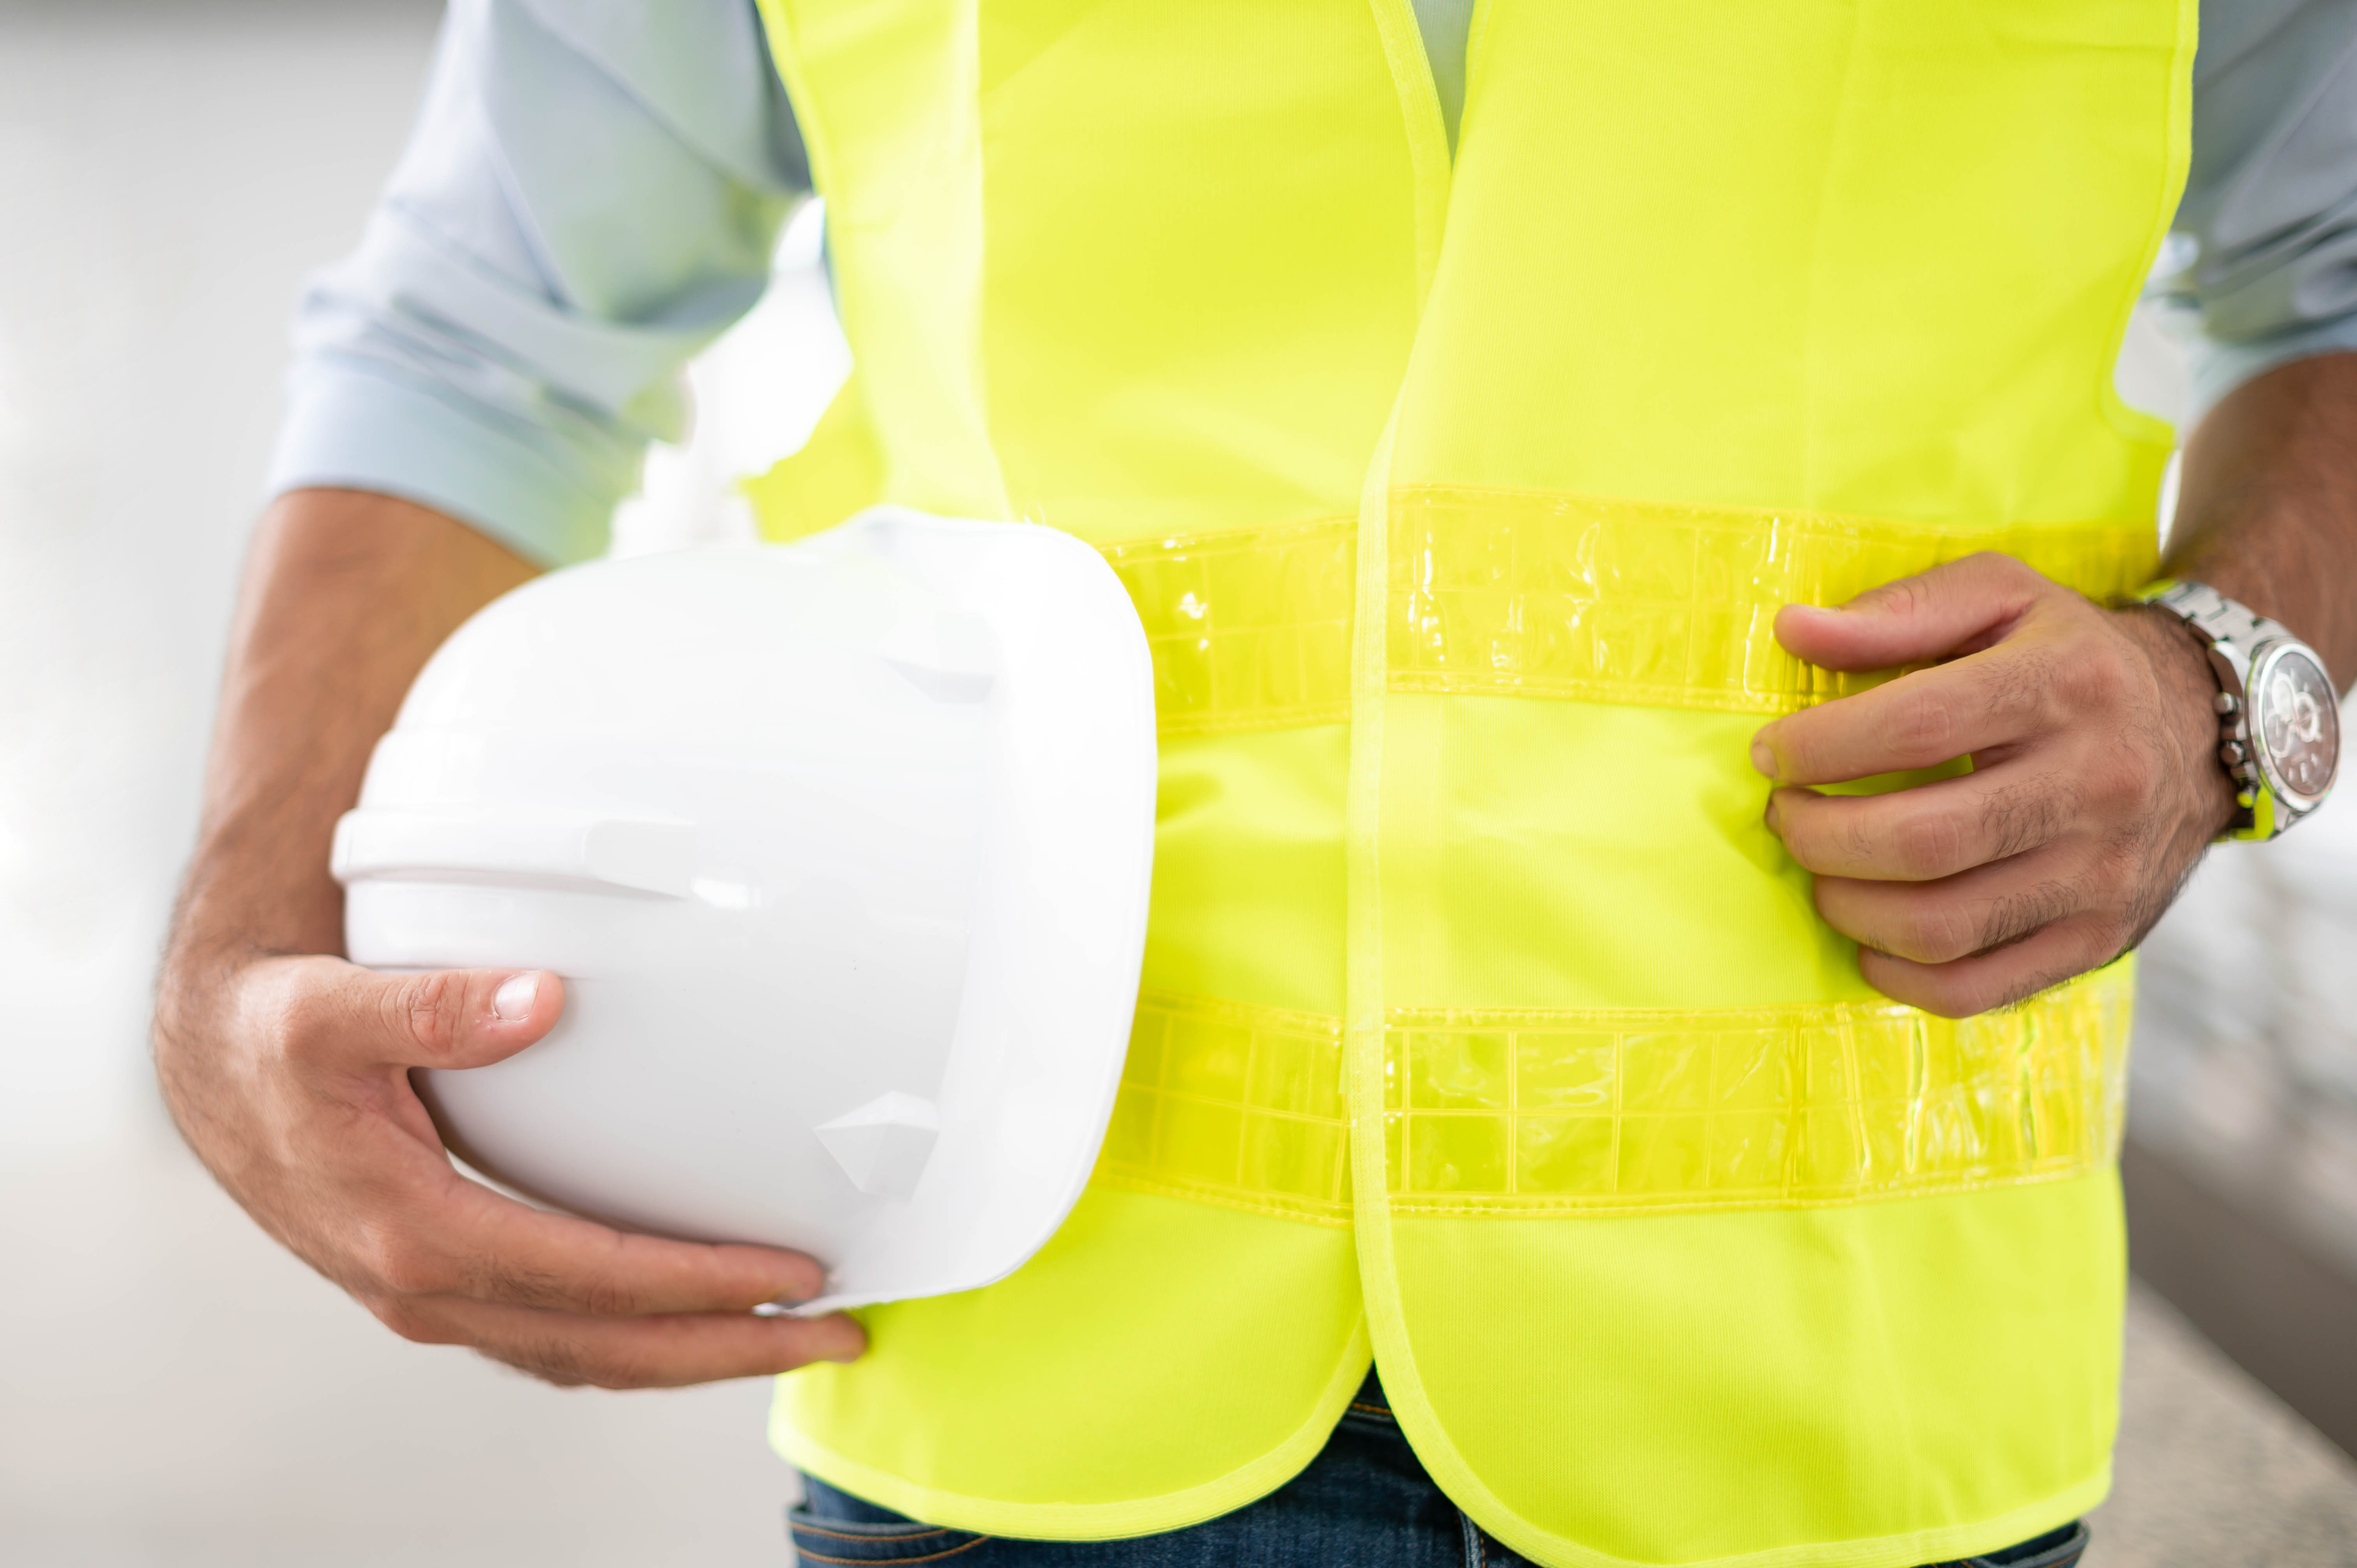Reflective vest: (747, 0, 2207, 1568)
